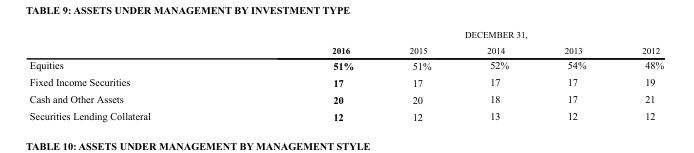table: (28, 29, 663, 121)
table column: (28, 29, 240, 121), (240, 29, 380, 121), (380, 29, 458, 121), (535, 29, 613, 121), (458, 29, 535, 121), (613, 29, 663, 121)
table column header: (28, 29, 663, 56)
table row: (28, 56, 663, 73), (28, 73, 663, 90), (28, 90, 663, 107), (28, 41, 663, 56), (28, 107, 663, 121), (28, 29, 663, 41)
table spanning cell: (240, 29, 663, 41)
